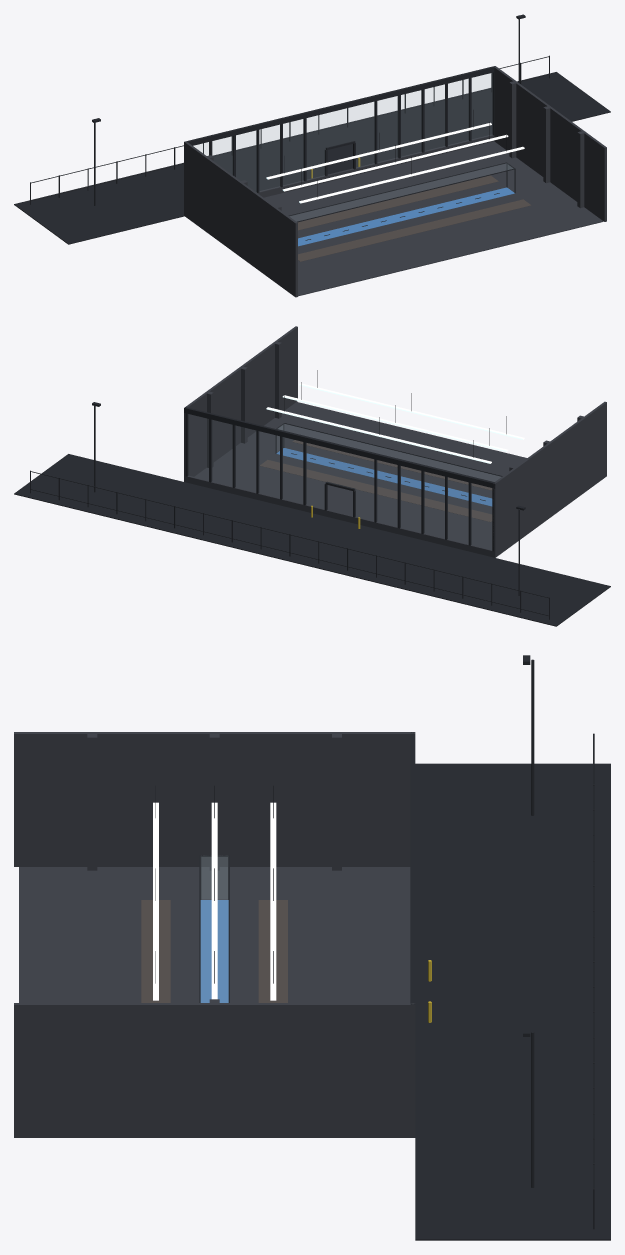
The model's file is stage_4.glb.
3 renders of one model, top to bottom at view 1: azimuth 30°, elevation 25°; view 2: azimuth 150°, elevation 25°; view 3: azimuth 270°, elevation 25°, orthographic. The views are drawn at different scales.
Visible parts, largest first — view 1: floor, walls, glass, props_stage_4, hot_tiles; view 2: floor, walls, glass, props_stage_4, hot_tiles; view 3: floor, walls, props_stage_4, hot_tiles, glass.
Boxes of the visible parts, x1,y1,x2,y2 form: floor: (14,72,610,296); walls: (184,66,606,297); glass: (194,73,513,220); props_stage_4: (30,14,549,205); hot_tiles: (298,175,531,261); floor: (14,402,610,626); walls: (184,326,606,557); glass: (188,414,500,549); props_stage_4: (30,370,549,619); hot_tiles: (260,440,492,522); floor: (19,763,610,1240); walls: (14,732,415,1137); props_stage_4: (153,655,594,1229); hot_tiles: (141,900,287,1002); glass: (201,856,227,1002).
Bounding box in the file's own units: 46 × 7.13 × 24.4.
